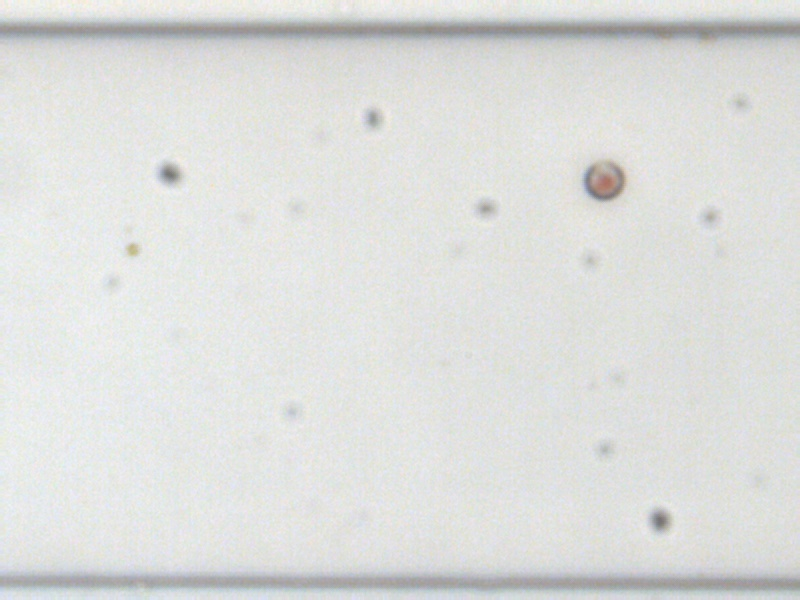Chlorella: (124, 238, 142, 254)
Porphyridium: (581, 158, 624, 202)
